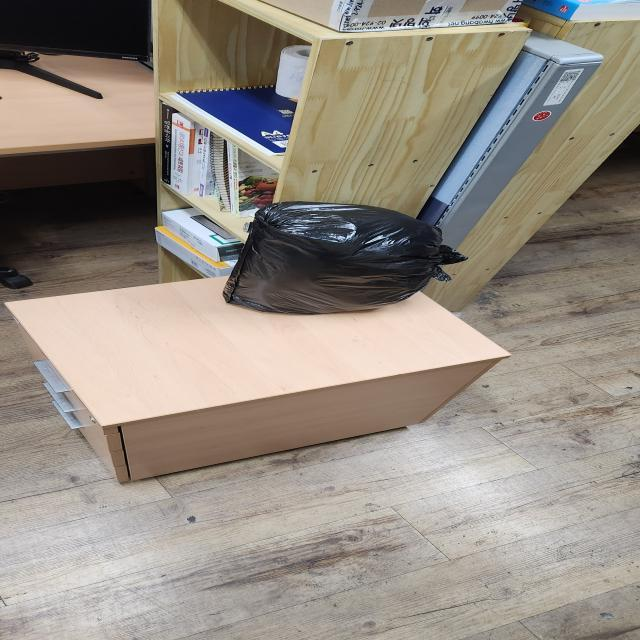black_bag: (221, 199, 467, 315)
